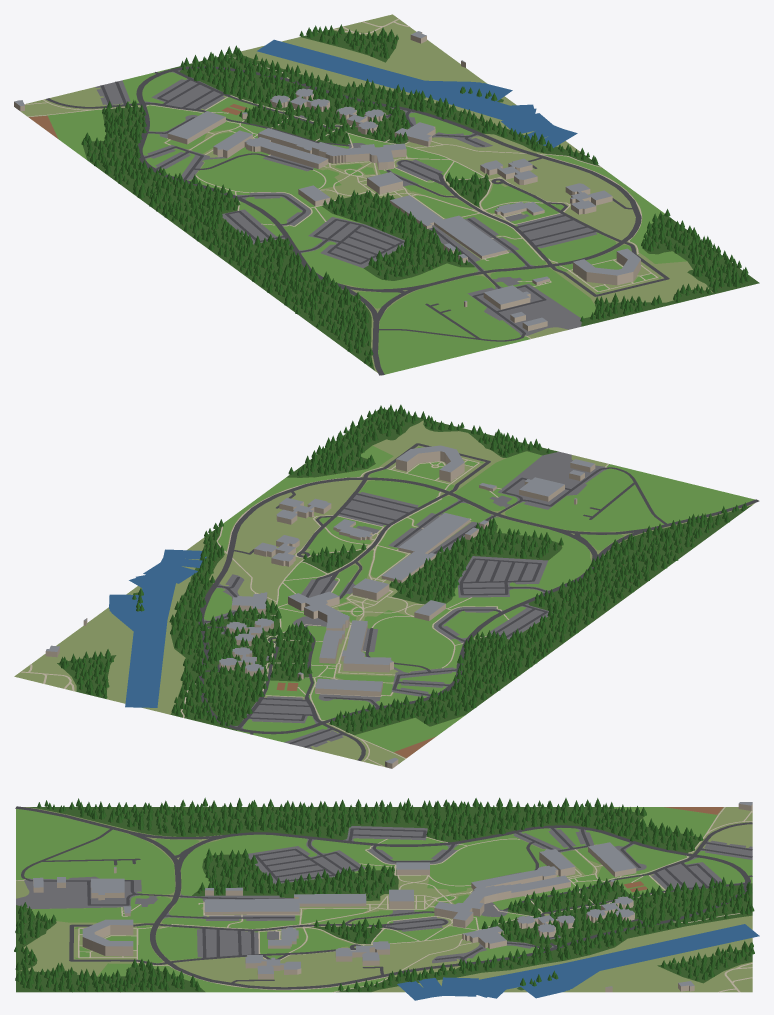
The model's file is campus.obj.
3 renders of one model, top to bottom at view 1: azimuth 30°, elevation 25°; view 2: azimuth 150°, elevation 25°; view 3: azimuth 270°, elevation 25°, orthographic.
Visible parts, largest first — view 1: grass, foliage, ground, wood, road, parking, roof, wall, water, path; view 2: grass, foliage, ground, wood, parking, road, roof, water, wall, path; view 3: grass, foliage, ground, wood, road, parking, roof, water, wall, path, pitch.
Boxes of the visible parts, box(x1,y1,x2,y2) form: grass: box(47, 69, 686, 374); foliage: box(81, 24, 749, 366); ground: box(20, 14, 712, 375); wood: box(81, 30, 759, 370); road: box(46, 66, 669, 375); parking: box(95, 70, 597, 335); roof: box(14, 31, 640, 325); wall: box(14, 32, 640, 331); water: box(257, 39, 577, 147); path: box(24, 18, 657, 338); grass: box(204, 445, 754, 752); foliage: box(59, 404, 747, 732); ground: box(14, 420, 754, 767); wood: box(57, 409, 752, 735); parking: box(204, 451, 606, 748); road: box(198, 443, 759, 760); roof: box(46, 445, 594, 763); water: box(109, 549, 206, 707); wall: box(45, 451, 595, 768); path: box(20, 458, 608, 766); grass: box(16, 807, 752, 992); foliage: box(14, 797, 754, 991); ground: box(16, 807, 752, 992); wood: box(16, 807, 752, 992); road: box(15, 806, 752, 989); parking: box(16, 826, 752, 963); roof: box(33, 802, 752, 987); water: box(397, 924, 759, 1000); wall: box(33, 804, 752, 992); path: box(16, 807, 752, 992); pitch: box(623, 807, 723, 892).
Bounding box in the file's own units: 637 × 16 × 1030.
